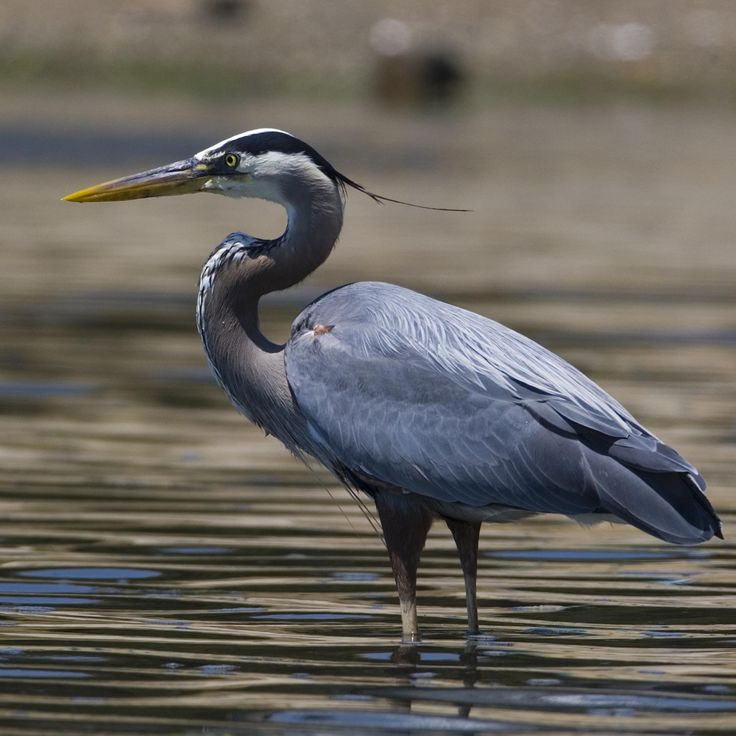heron: (58, 127, 728, 672)
